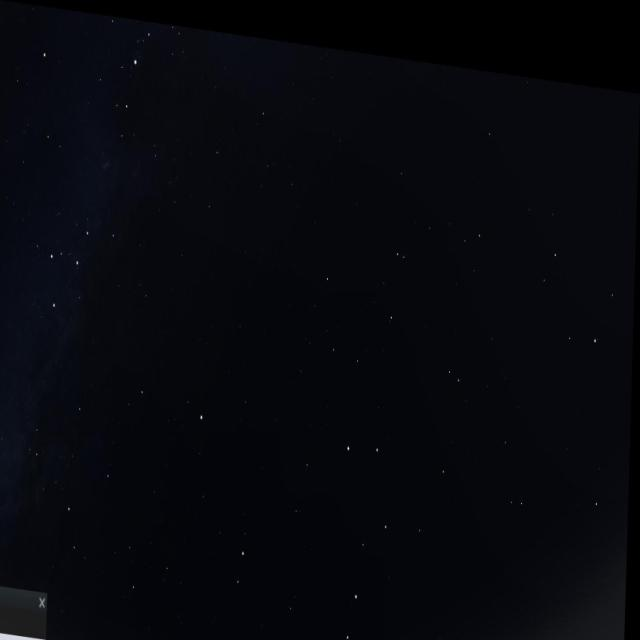ursa_major: (328, 398, 392, 640)
